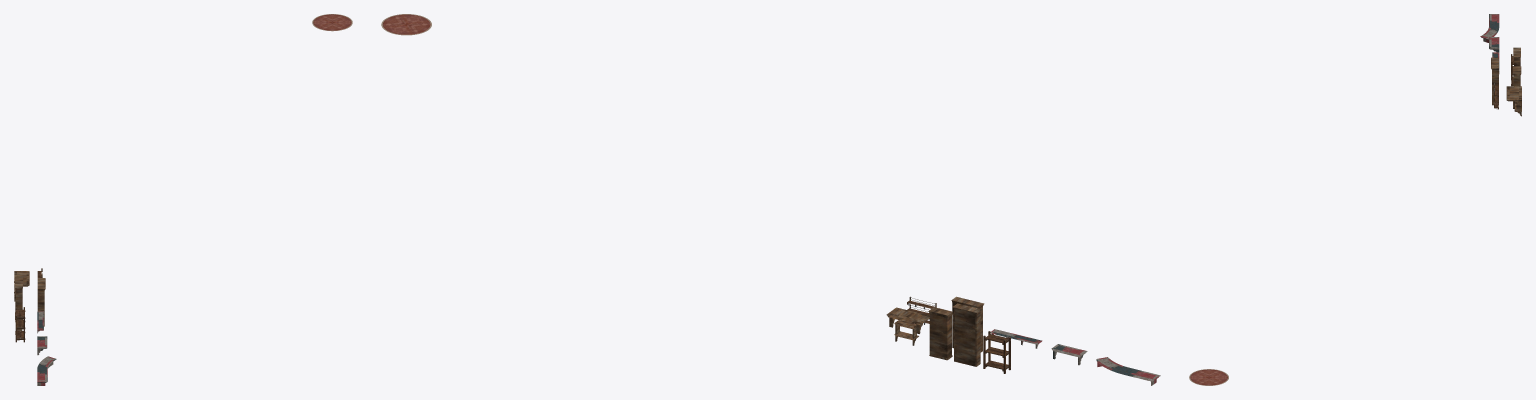
The model's file is enc_int_hoshi.glb.
3 views of the same model, side by side, from view 1: azimuth 90°, elevation 25°; view 2: azimuth 150°, elevation 25°; view 3: azimuth 270°, elevation 25° (orthographic). The views are drawn at different scales.
Visible parts, largest first — view 1: KB3D_ECI_PropRug_A_Main, KB3D_ECI_PropShelf_I_Main, KB3D_ECI_PropShelf_A_Main, KB3D_ECI_PropShelf_F_Main; view 2: KB3D_ECI_PropShelf_B_Main, KB3D_ECI_PropShelf_C_Main, KB3D_ECI_PropShelf_D_Main, KB3D_ECI_PropRug_A_Main, KB3D_ECI_PropShelf_A_Main; view 3: KB3D_ECI_PropRug_A_Main, KB3D_ECI_PropShelf_D_Main, KB3D_ECI_PropShelf_I_Main.
Part boxes in pixels (x1,y1,x2,y2): KB3D_ECI_PropRug_A_Main: (312,14,352,31); KB3D_ECI_PropShelf_I_Main: (37,356,56,385); KB3D_ECI_PropShelf_A_Main: (15,307,25,342); KB3D_ECI_PropShelf_F_Main: (37,278,45,326); KB3D_ECI_PropShelf_B_Main: (952,303,981,366); KB3D_ECI_PropShelf_C_Main: (928,307,952,360); KB3D_ECI_PropShelf_D_Main: (886,307,929,345); KB3D_ECI_PropRug_A_Main: (381,14,431,35); KB3D_ECI_PropShelf_A_Main: (983,331,1010,373); KB3D_ECI_PropRug_A_Main: (1189,369,1228,385); KB3D_ECI_PropShelf_D_Main: (1506,86,1521,116); KB3D_ECI_PropShelf_I_Main: (1480,14,1499,42).
Size of the model in its own units: 44.64 by 2.44 by 17.12.
Materials: 8 (8 with a texture image).
